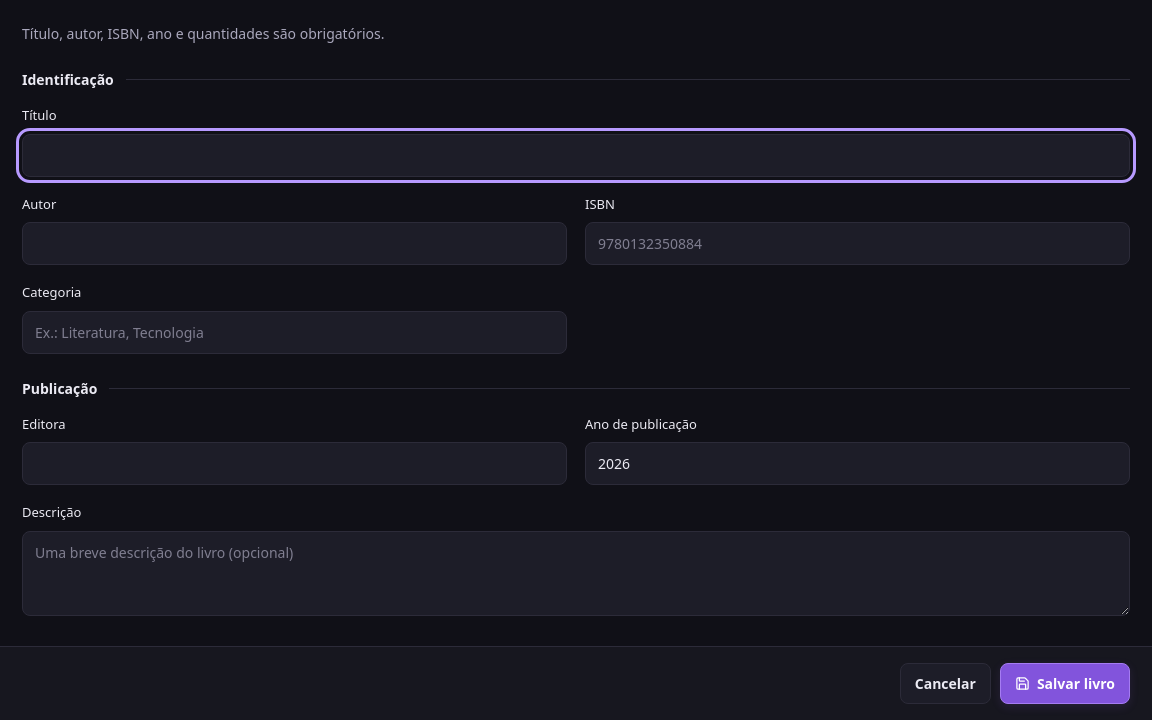
RF-UI-003 requires title, author and valid ISBN before saving
The image size is (1152, 720).
Click the button "Salvar livro". click: [1065, 684]
box: [1000,663,1130,704]
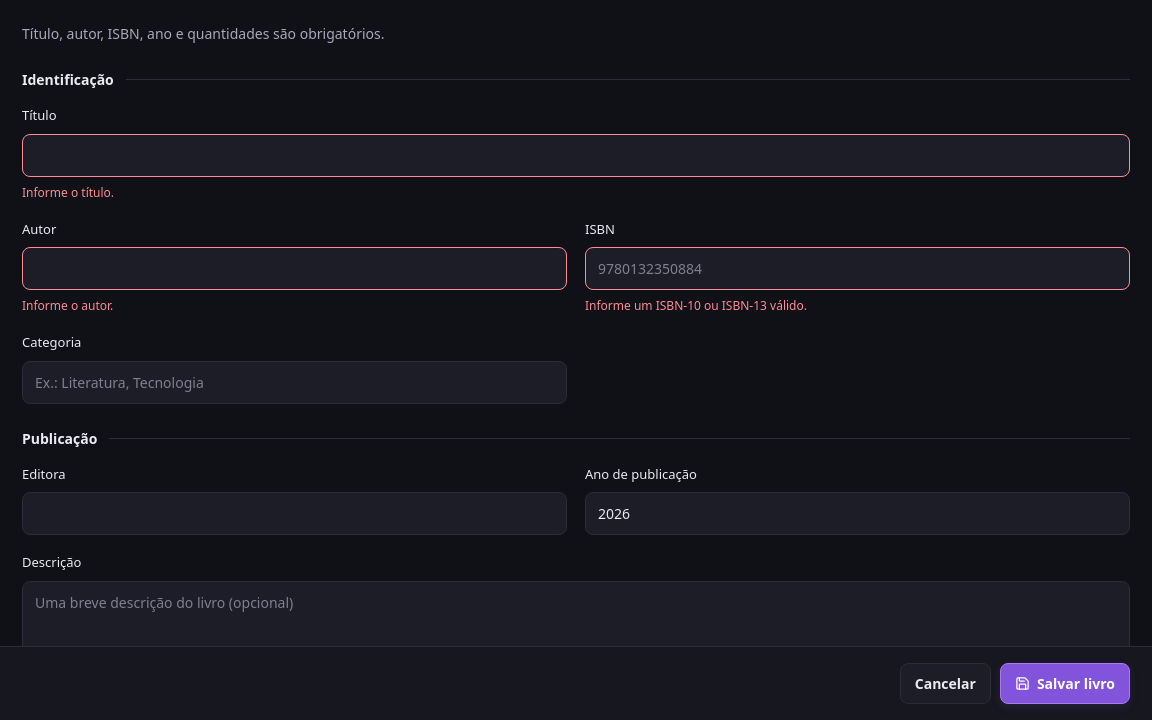
Now the text "Informe o título." is shown, box [22,184,114,201]
Now the text "Informe o autor." is shown, box [22,297,113,314]
